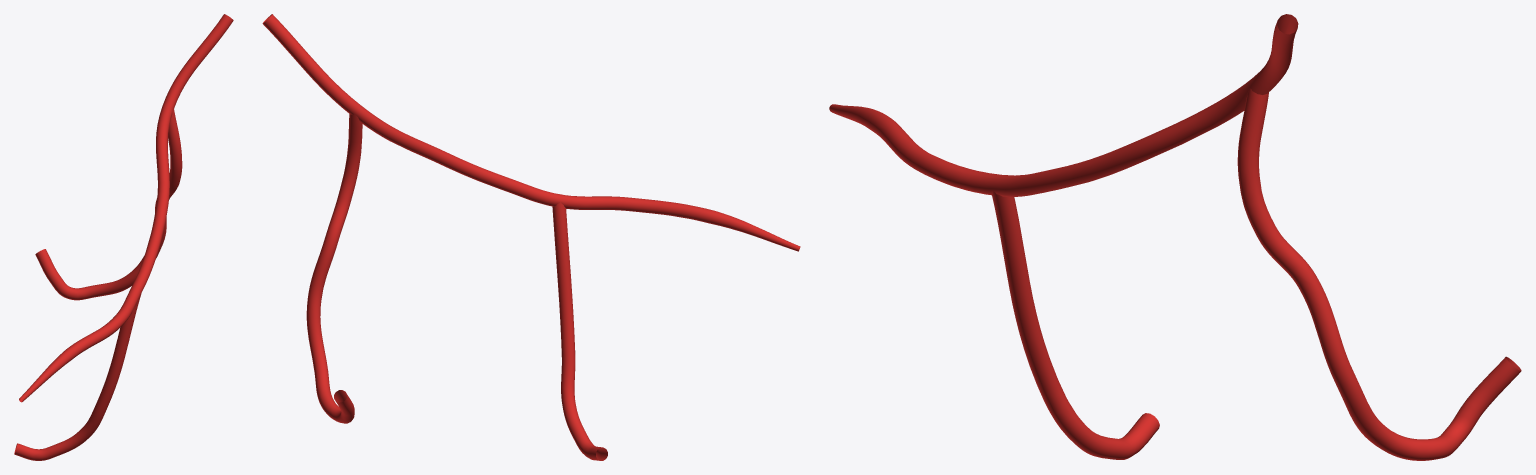
File: circulatorio-inferior-labial-veins-l.glb
The picture shows the model from 3 angles, left to right: view 1: azimuth 30°, elevation 25°; view 2: azimuth 150°, elevation 25°; view 3: azimuth 270°, elevation 25°; orthographic projection. The views are drawn at different scales.
Visible parts, largest first — view 1: Inferior labial veins.l; view 2: Inferior labial veins.l; view 3: Inferior labial veins.l.
Boxes of the visible parts, box(x1,y1,x2,y2) form: Inferior labial veins.l: box(14, 14, 233, 460); Inferior labial veins.l: box(262, 14, 800, 460); Inferior labial veins.l: box(829, 14, 1521, 460).
Bounding box in the file's own units: 0.0326 × 0.0329 × 0.0319.
